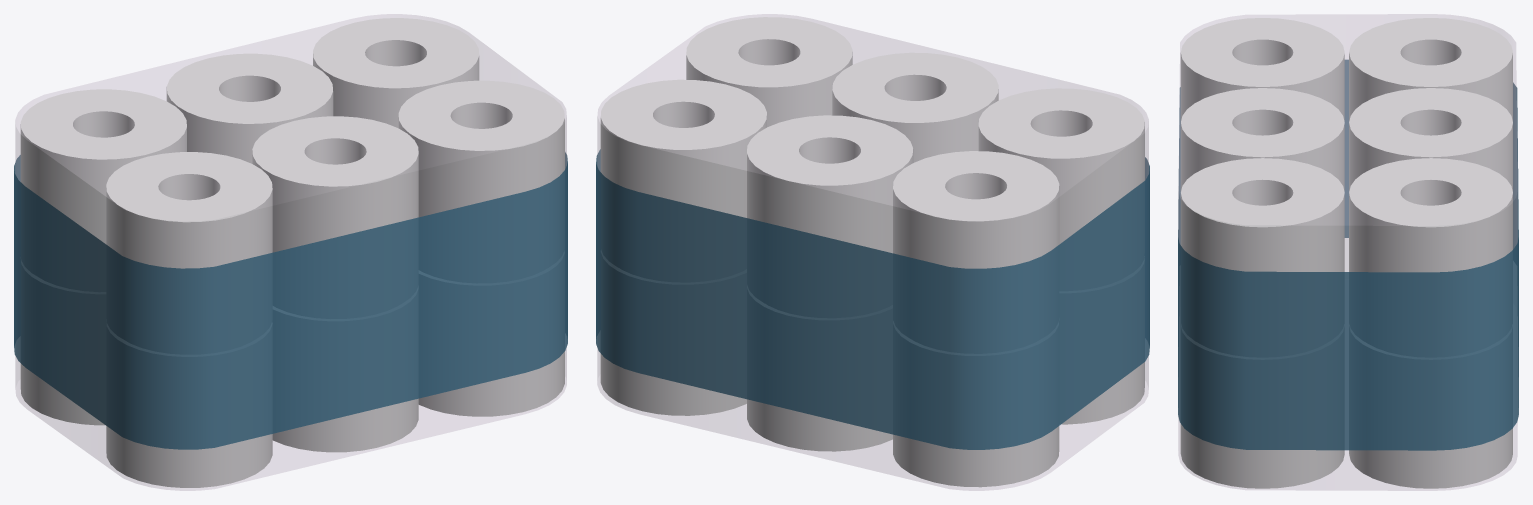
The picture shows the model from 3 angles, left to right: view 1: azimuth 30°, elevation 25°; view 2: azimuth 150°, elevation 25°; view 3: azimuth 270°, elevation 25°; orthographic projection.
Parts seen in each view (by area): view 1: TP, TP_Plastic, TP_Plastic Logo; view 2: TP, TP_Plastic, TP_Plastic Logo; view 3: TP, TP_Plastic, TP_Plastic Logo.
Boxes of the visible parts, left/top/right/bottom form: TP: left=20, top=18, right=564, bottom=487; TP_Plastic: left=15, top=14, right=566, bottom=490; TP_Plastic Logo: left=14, top=152, right=567, bottom=449; TP: left=600, top=17, right=1144, bottom=487; TP_Plastic: left=597, top=14, right=1148, bottom=490; TP_Plastic Logo: left=596, top=149, right=1149, bottom=449; TP: left=1180, top=18, right=1512, bottom=488; TP_Plastic: left=1178, top=14, right=1517, bottom=490; TP_Plastic Logo: left=1178, top=59, right=1518, bottom=450.
Bounding box in the file's own units: 46562 × 27012 × 31492.
